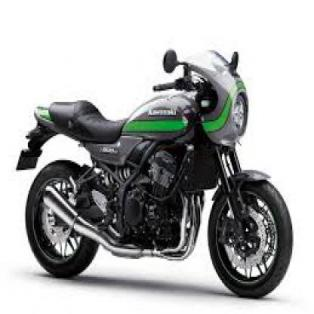Motocicleta: (12, 38, 296, 300)
